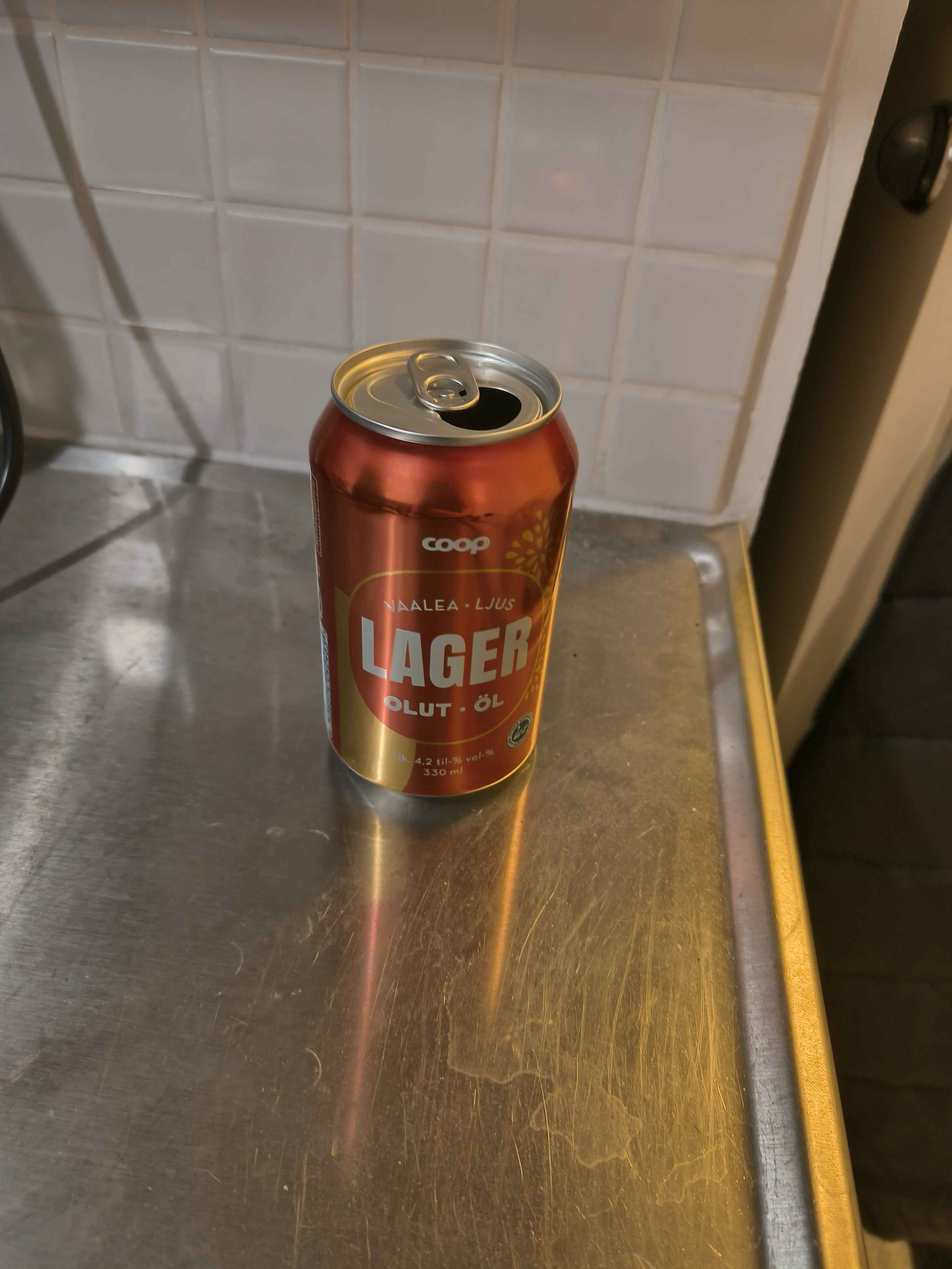Pantburk: (308, 336, 580, 798)
